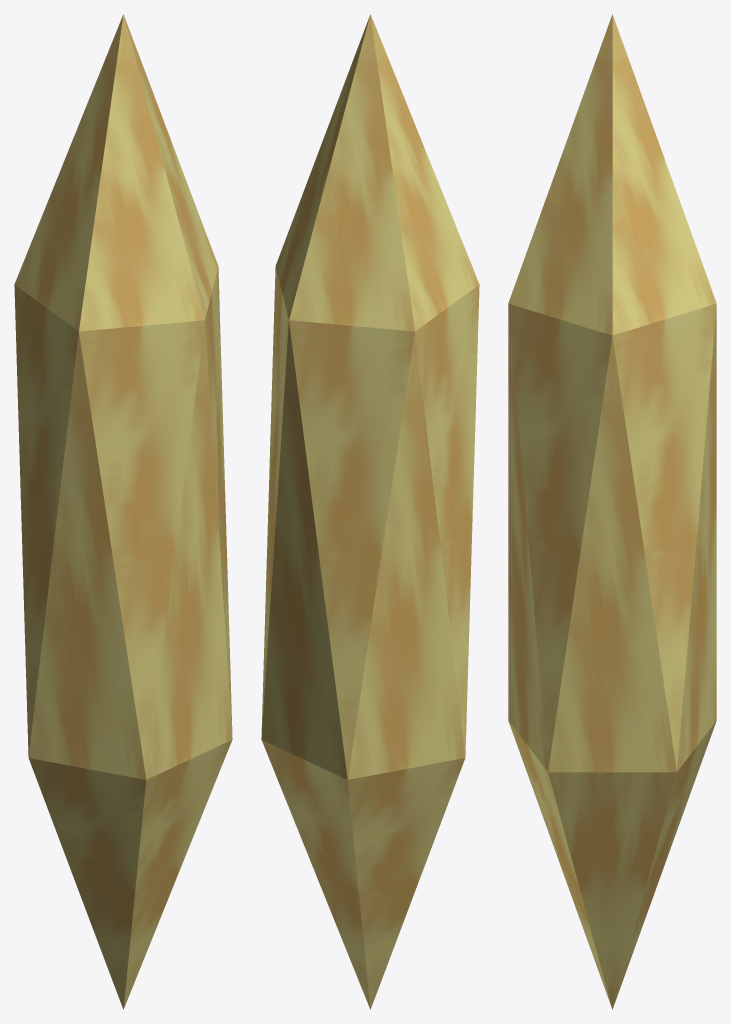
File: gem.obj
3 views of the same model, side by side, from view 1: azimuth 30°, elevation 25°; view 2: azimuth 150°, elevation 25°; view 3: azimuth 270°, elevation 25° (orthographic).
Size of the model in its own units: 5.44 by 27.24 by 5.17.
1 material, 1 textured.
